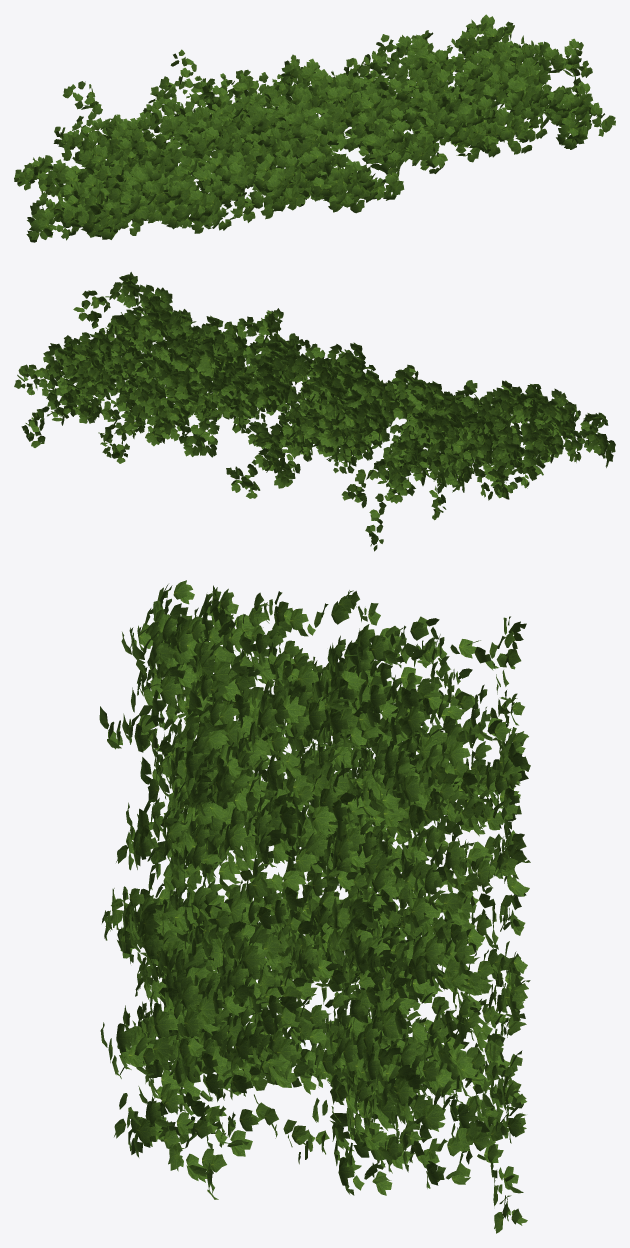
The model's file is leaves.obj.
The picture shows the model from 3 angles, top to bottom: view 1: azimuth 30°, elevation 25°; view 2: azimuth 150°, elevation 25°; view 3: azimuth 270°, elevation 25°; orthographic projection. The views are drawn at different scales.
Visible parts, largest first — view 1: leaves; view 2: leaves; view 3: leaves.
Part boxes in pixels (bbox=[...]): leaves: bbox=[14, 14, 615, 242]; leaves: bbox=[14, 272, 615, 551]; leaves: bbox=[99, 580, 530, 1233].
Bounding box in the file's own units: 6.55 × 1.7 × 2.33.
Materials: 1 (1 with a texture image).
